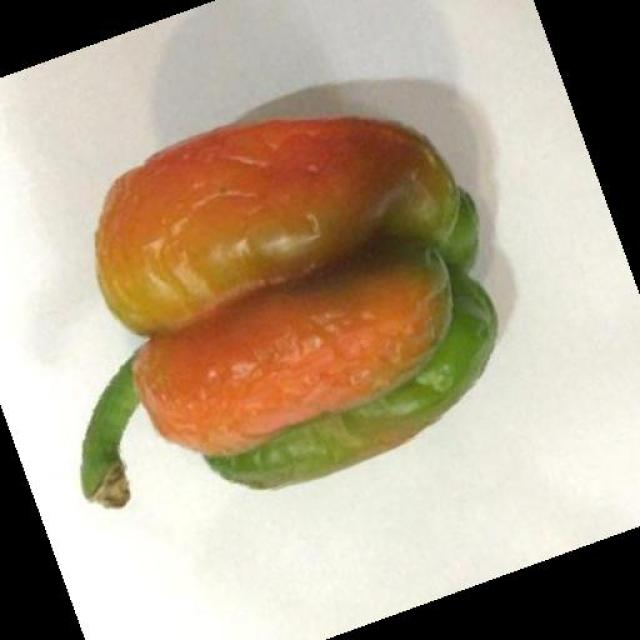Stale_Capsicum: (49, 109, 507, 502)
